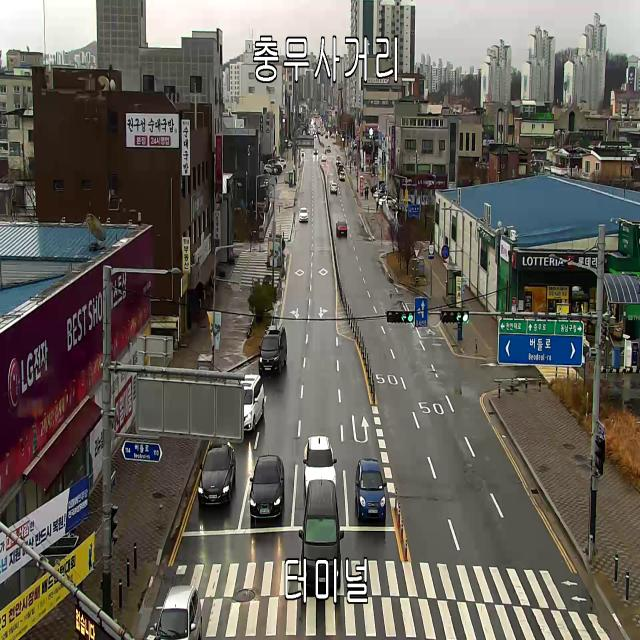Car: (298, 479, 344, 587), (154, 585, 202, 640), (197, 441, 236, 506), (249, 455, 285, 519), (303, 436, 337, 497), (355, 458, 387, 520), (238, 374, 265, 431), (258, 324, 287, 374), (378, 195, 396, 207), (336, 221, 348, 236), (262, 164, 278, 174), (298, 206, 308, 222), (376, 192, 388, 202), (373, 188, 385, 197), (330, 182, 338, 194), (277, 159, 286, 169), (339, 171, 345, 181), (336, 155, 341, 166), (338, 165, 344, 174), (322, 154, 326, 162), (313, 148, 318, 154), (326, 145, 331, 151), (301, 149, 305, 156), (374, 156, 377, 164), (325, 134, 328, 138), (314, 135, 317, 138)
